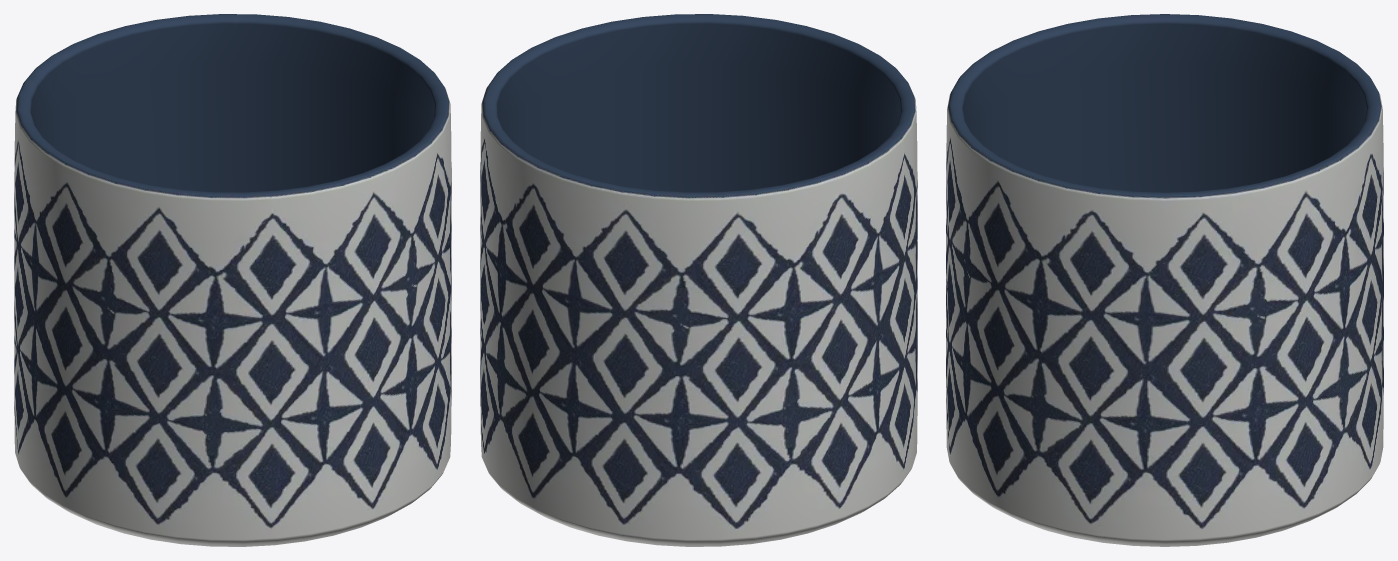
File: abo-B07QC8C7YX.glb
The picture shows the model from 3 angles, left to right: view 1: azimuth 30°, elevation 25°; view 2: azimuth 150°, elevation 25°; view 3: azimuth 270°, elevation 25°; orthographic projection.
Bounding box in the file's own units: 0.224 × 0.203 × 0.224.
1 material, 1 textured.
